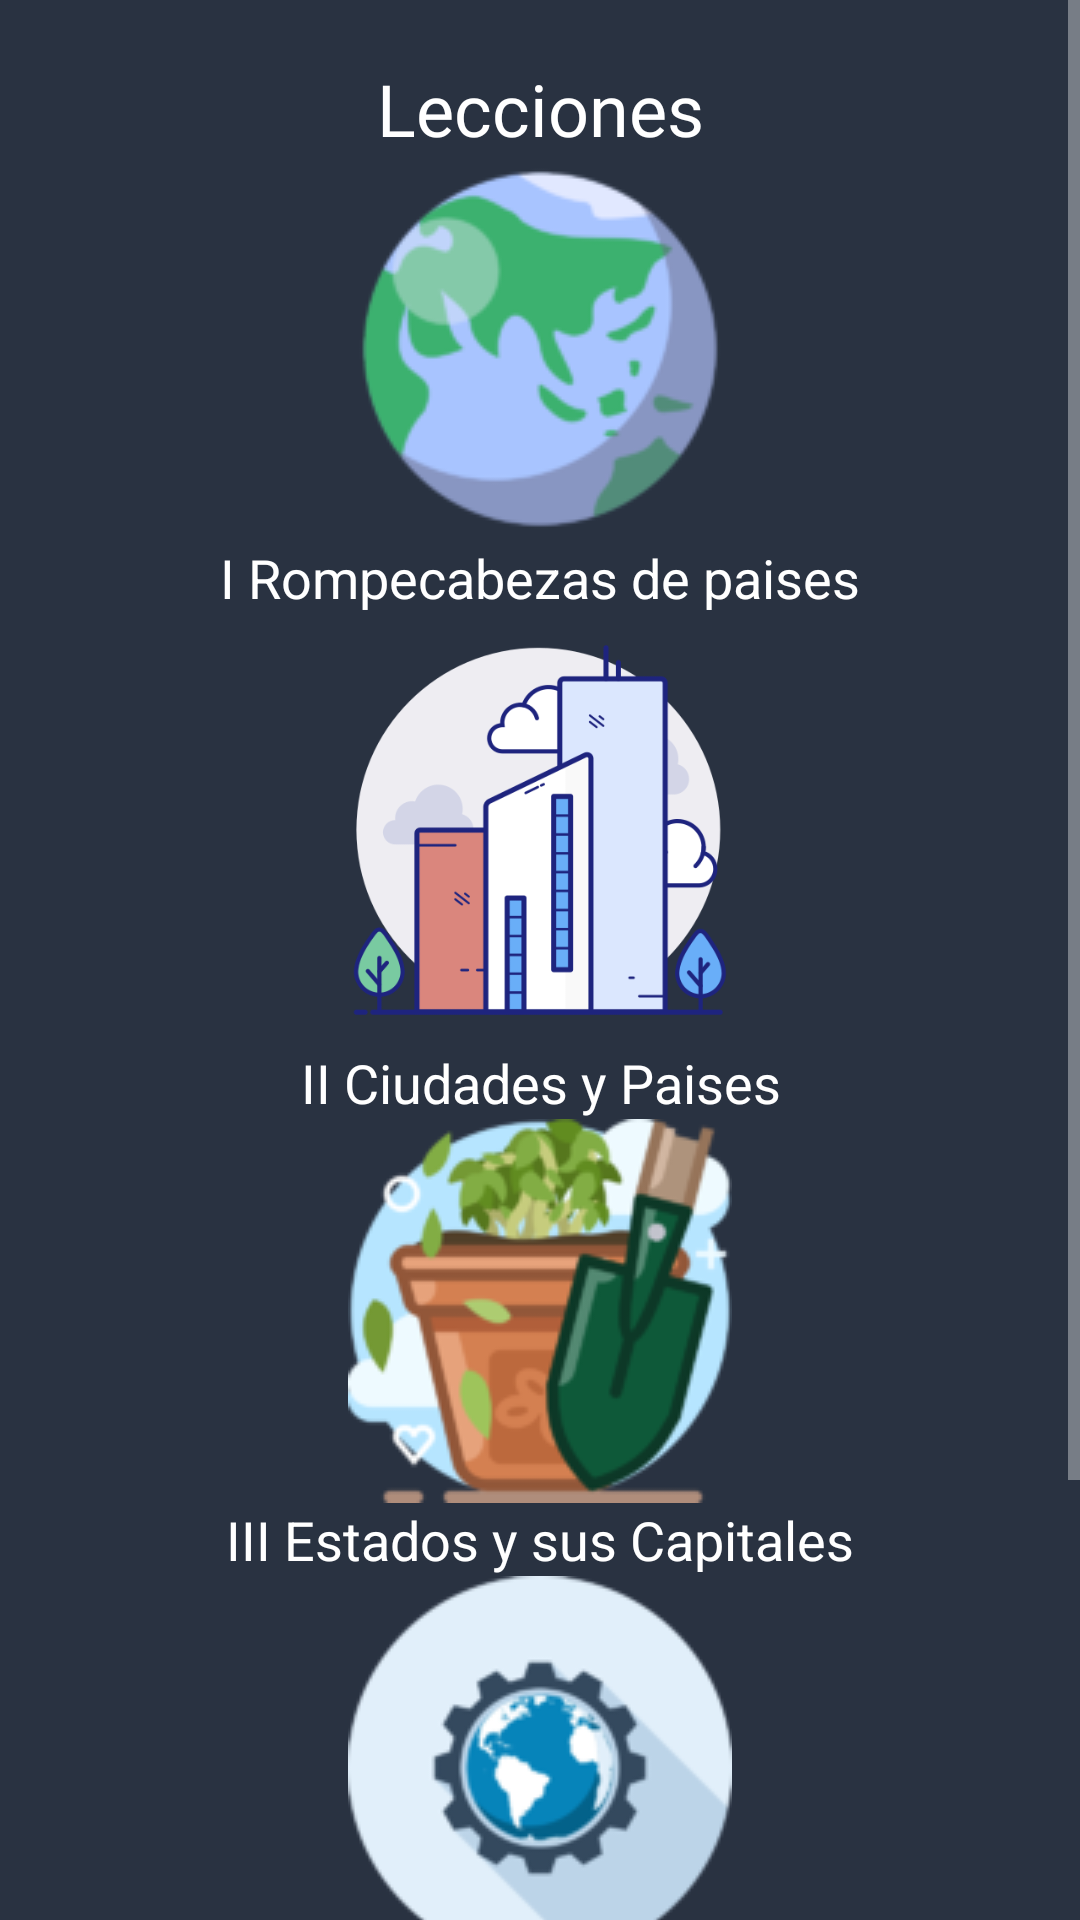

Screen size 1080px×1920px. Icon name, then its center in pixels as point (x, y):
elestudidelatierra: point (540, 349)
